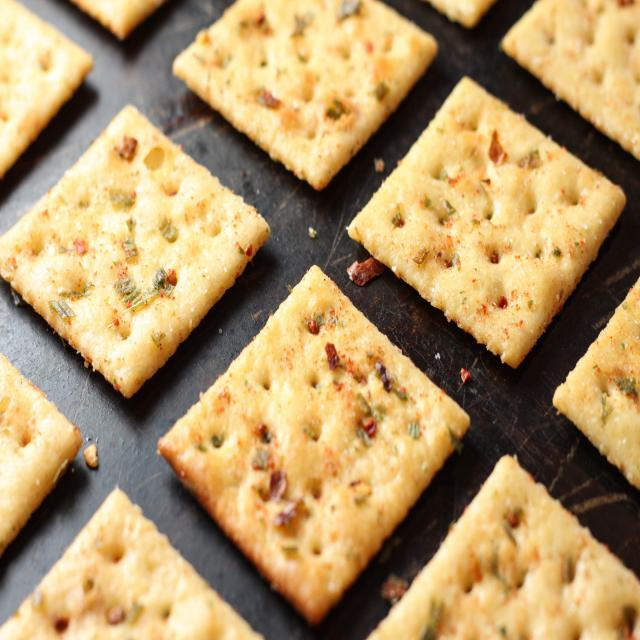Cracker: (161, 259, 478, 605), (343, 65, 627, 374), (1, 97, 271, 406)
